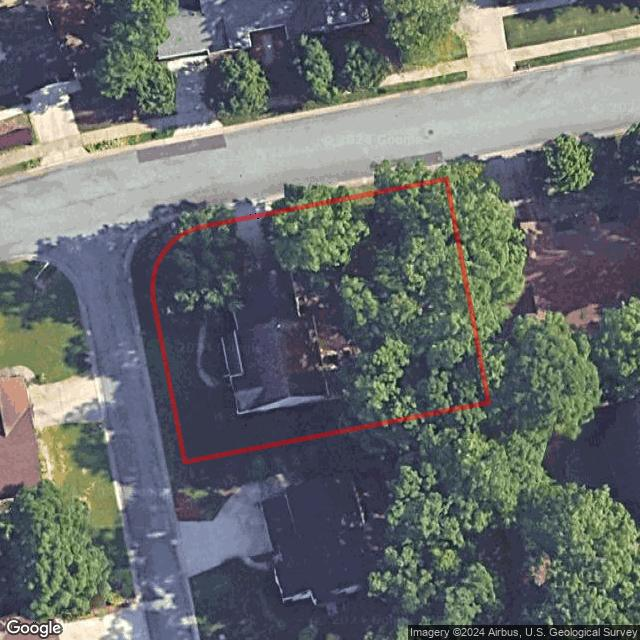Driveway: (234, 214, 290, 299)
Extra-Driveway: (226, 201, 261, 220)
Extra-Lawn: (131, 209, 234, 467), (258, 169, 447, 217)
House: (221, 287, 332, 417)
Lawn: (152, 179, 488, 463)
Other: (339, 179, 488, 432), (195, 327, 231, 389)
